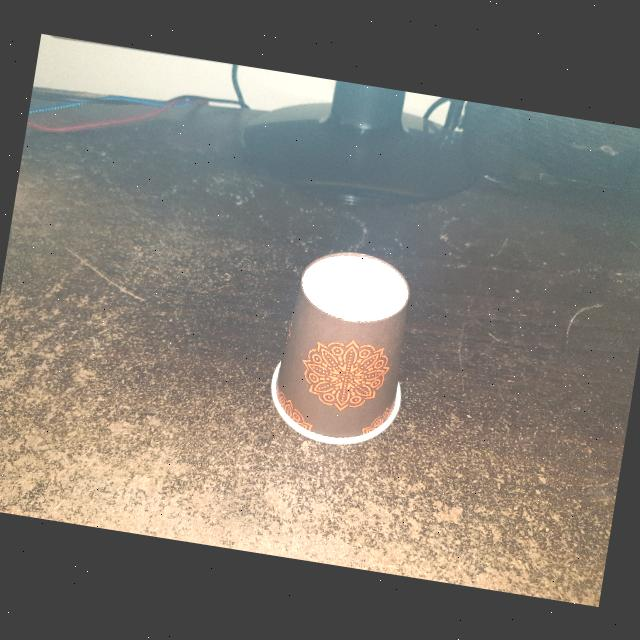trash: (255, 234, 428, 456)
